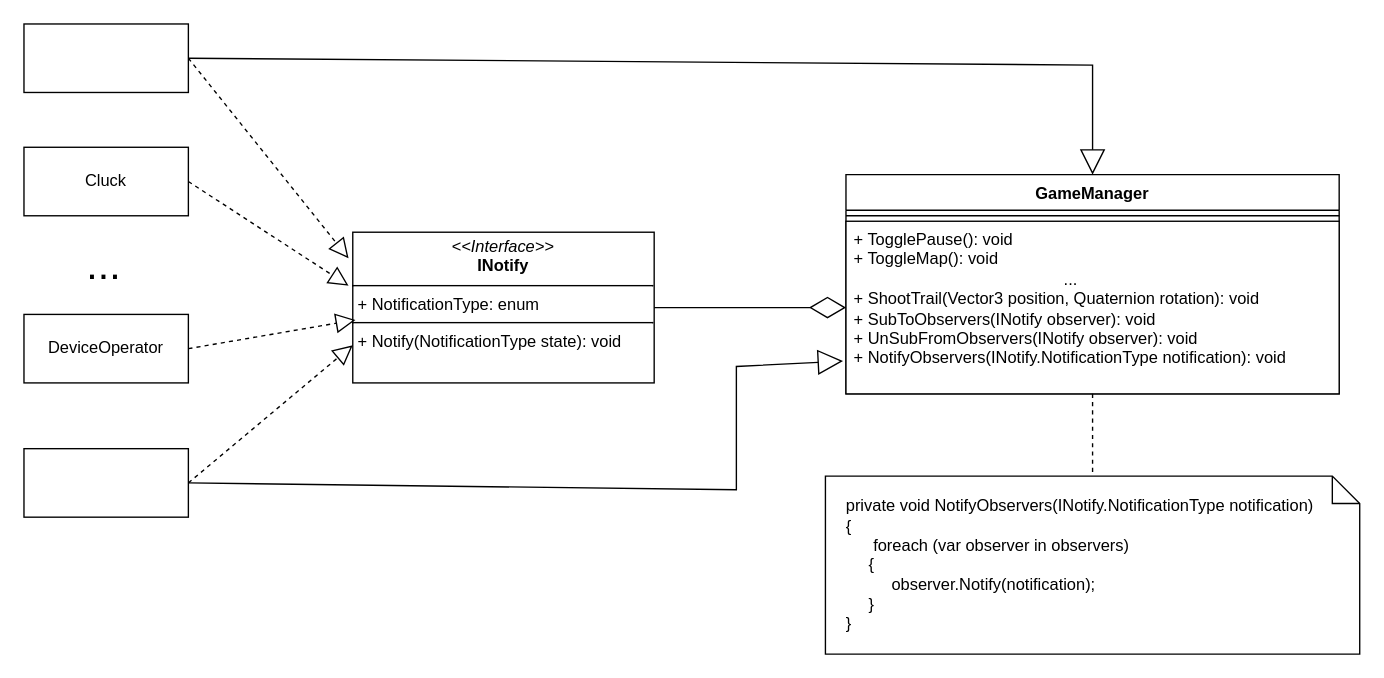
The diagram is 1384 pixels wide and 678 high, and some of its shapes have lost their labels. The centre of each missing label's shape, as x and y in pixels:
"PlayerMovement" goes at pixel 105 57.
"TriggerGateController" goes at pixel 105 482.
